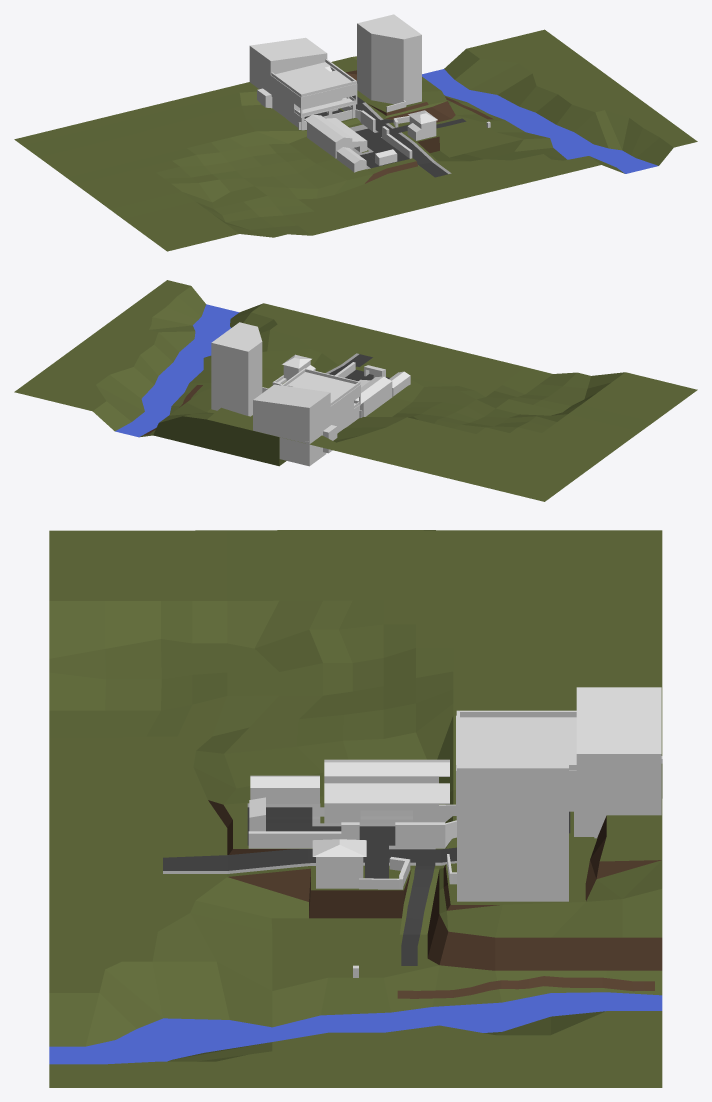
Rendered from mappp.fbx.
3 renders of one model, top to bottom at view 1: azimuth 30°, elevation 25°; view 2: azimuth 150°, elevation 25°; view 3: azimuth 270°, elevation 25°, orthographic. The views are drawn at different scales.
Parts seen in each view (by area): view 1: 地形.001, 地形, building.006, building.009, どうろ, building.002, building.001, building.005, building.012, building.004, building; view 2: 地形.001, 地形, building.006, building.009, building.002, どうろ, building.005, building.001, building; view 3: 地形.001, 地形, building.009, building.006, どうろ, building.002, building.012, building.001, building.004, どうろ.001, building, building.003.
Boxes of the visible parts, <box> form: 地形.001: <box>14,82,432,251</box>; 地形: <box>331,29,697,205</box>; building.006: <box>249,37,357,117</box>; building.009: <box>357,14,421,105</box>; どうろ: <box>317,95,493,177</box>; building.002: <box>304,114,367,158</box>; building.001: <box>407,110,437,140</box>; building.005: <box>257,88,355,130</box>; building.012: <box>360,110,412,158</box>; building.004: <box>336,147,366,172</box>; building: <box>271,59,356,97</box>; 地形.001: <box>280,344,697,501</box>; 地形: <box>14,280,432,466</box>; building.006: <box>253,372,360,466</box>; building.009: <box>211,322,262,416</box>; building.002: <box>355,376,392,416</box>; どうろ: <box>143,353,373,435</box>; building.005: <box>305,406,359,461</box>; building.001: <box>282,354,315,380</box>; building: <box>281,368,360,405</box>; 地形.001: <box>49,530,662,828</box>; 地形: <box>49,789,662,1087</box>; building.009: <box>457,732,568,901</box>; building.006: <box>456,687,661,838</box>; どうろ: <box>163,813,654,998</box>; building.002: <box>324,759,449,823</box>; building.012: <box>248,822,445,848</box>; building.001: <box>312,839,366,888</box>; building.004: <box>250,775,319,803</box>; どうろ.001: <box>247,803,570,819</box>; building: <box>456,710,576,770</box>; building.003: <box>359,857,410,889</box>.
Size of the model in its own units: 15600 by 2514 by 7802.
